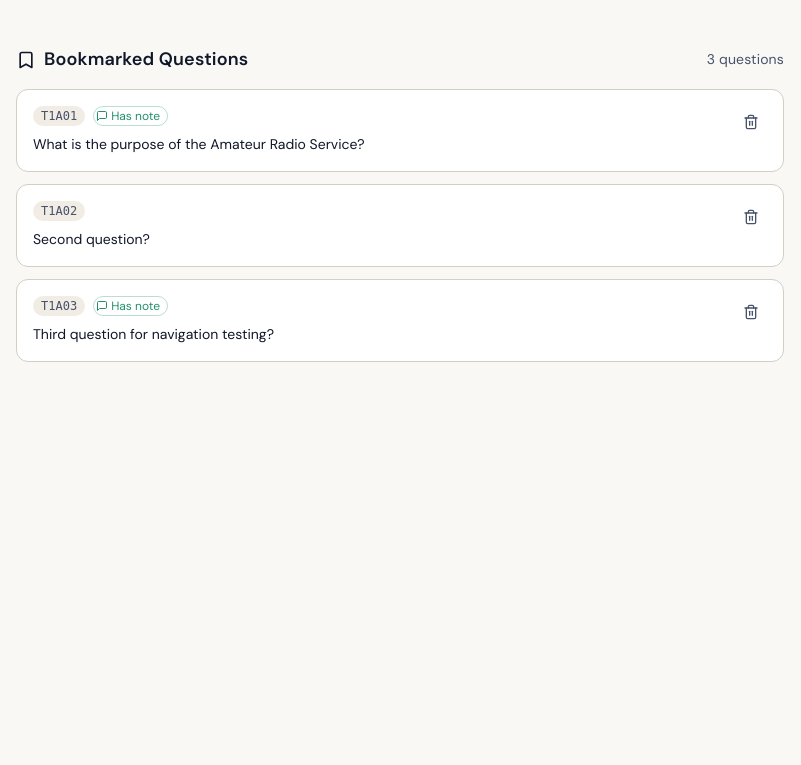
Test: BookmarkedQuestions › Navigation › shows Previous and Next buttons in question view
Note: Click on first bookmark
Step 1. Click the text "What is the purpose of the Amateur Radio Service?" → (199, 144), box [33,135,365,153]
(page scrolled)
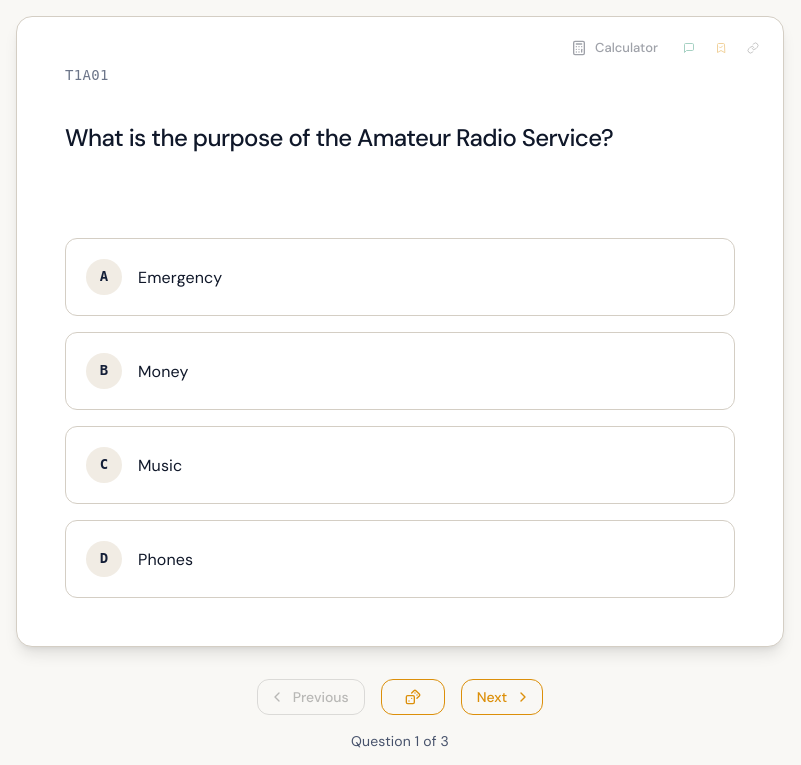
Expected: the button "Previous" is shown, [257,678,365,715]
Expected: the button "Next" is shown, [461,678,543,715]
